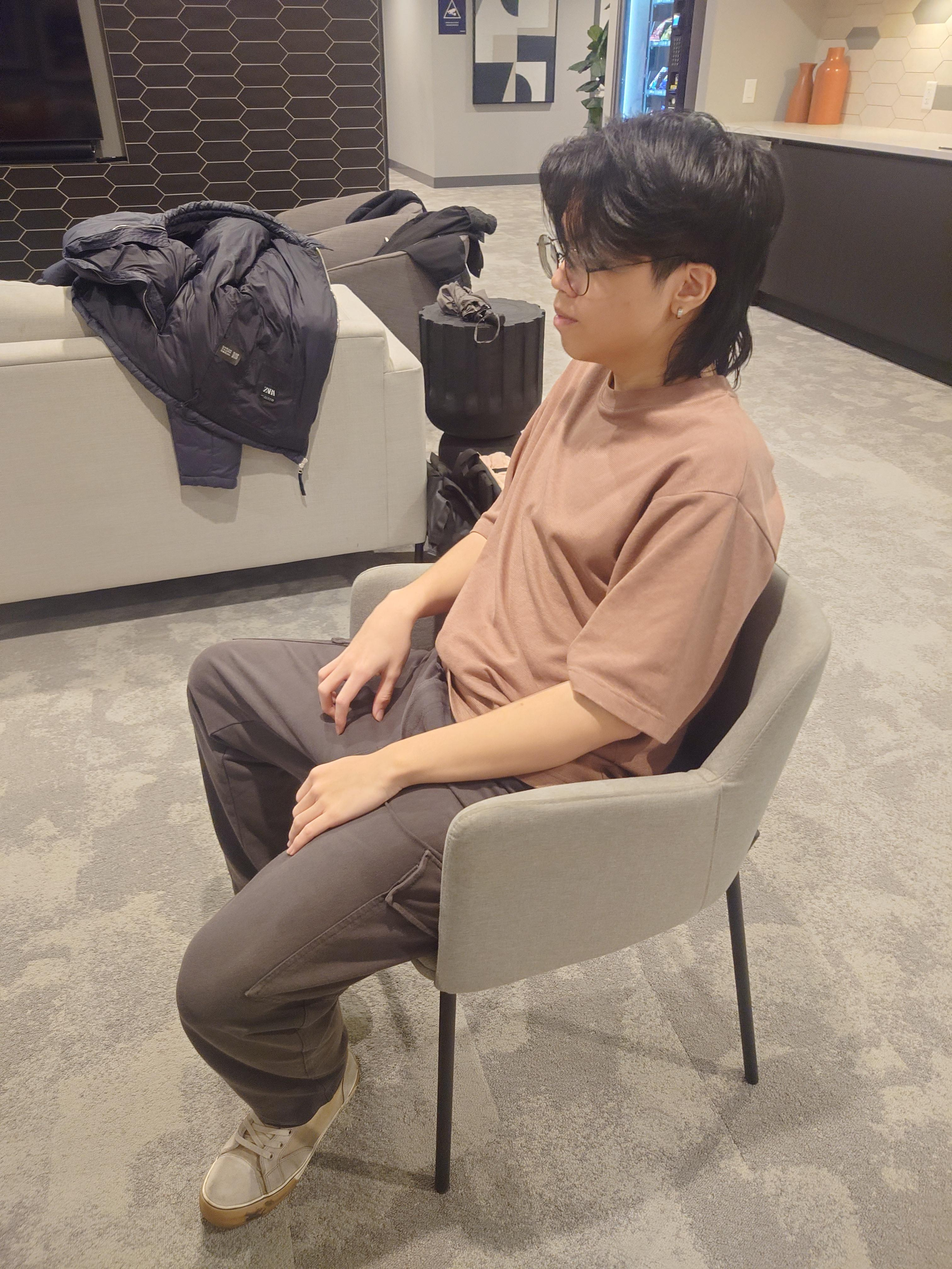BadPosture: (174, 105, 787, 1230)
